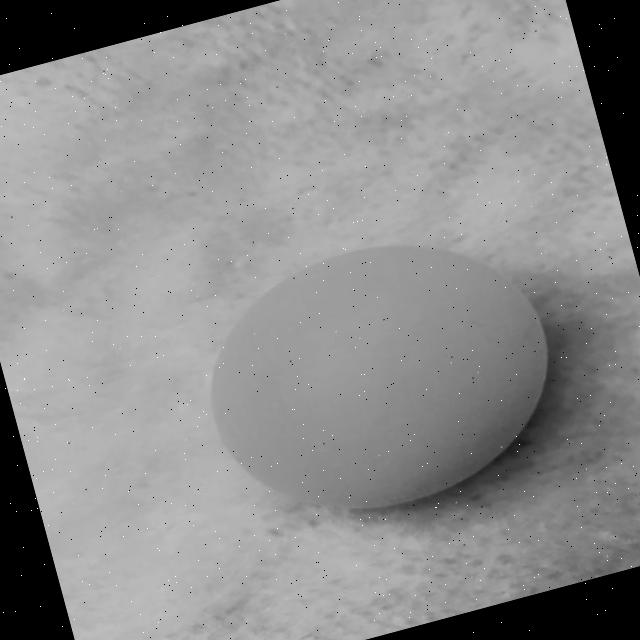ping-pong-ball: (175, 203, 588, 549)
